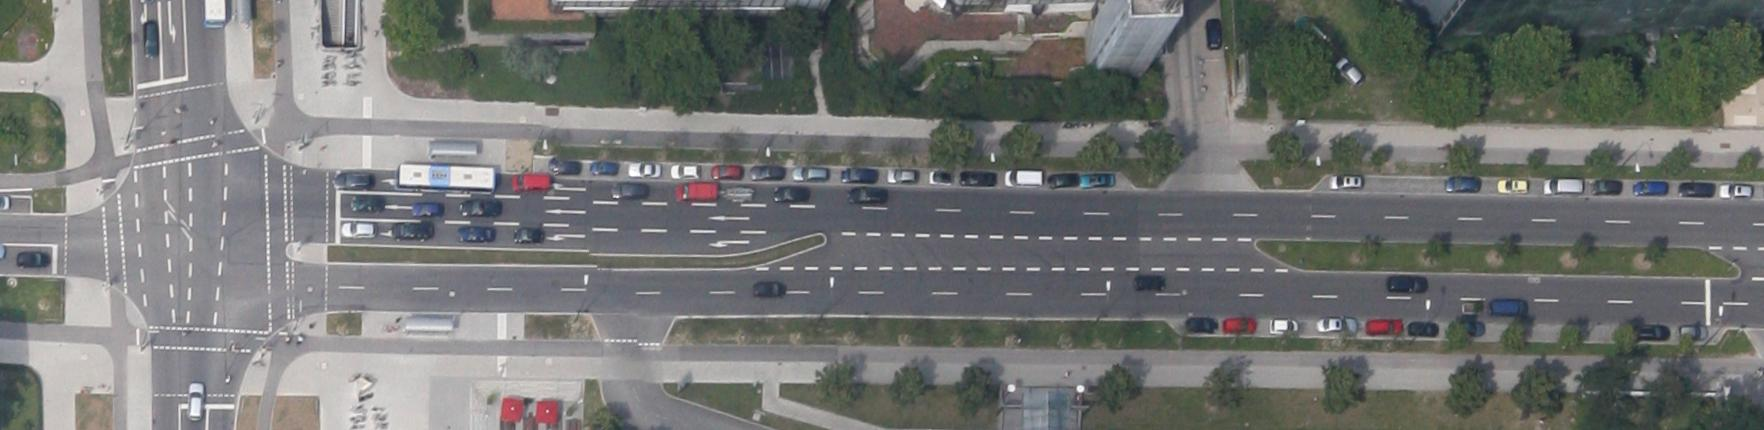car: (1333, 55, 1366, 89), (676, 182, 716, 202), (333, 170, 370, 190), (460, 200, 501, 218), (1488, 298, 1528, 316), (394, 222, 432, 240), (512, 174, 550, 192), (1386, 276, 1428, 292), (1005, 169, 1042, 187), (1543, 177, 1582, 194), (848, 186, 886, 203), (1316, 318, 1356, 334), (16, 251, 50, 269), (350, 194, 384, 212), (144, 21, 160, 59), (187, 382, 203, 420), (774, 185, 809, 202), (457, 226, 494, 242), (612, 182, 648, 198), (1366, 318, 1402, 334), (1444, 176, 1480, 192), (341, 222, 376, 238), (1678, 182, 1714, 197), (793, 166, 826, 182), (1205, 18, 1222, 49), (1632, 181, 1667, 196), (842, 168, 877, 183), (1186, 316, 1218, 332), (1224, 316, 1256, 332), (1330, 174, 1362, 190), (960, 171, 994, 186), (750, 165, 784, 180), (1407, 320, 1438, 336), (1638, 324, 1669, 340), (1590, 179, 1621, 195), (629, 162, 660, 178), (753, 282, 785, 297), (670, 163, 700, 179), (548, 159, 580, 174), (1134, 275, 1164, 291), (1718, 184, 1752, 198), (1080, 174, 1114, 188), (1269, 318, 1298, 334), (514, 228, 544, 243), (712, 165, 742, 180), (726, 185, 752, 202), (1049, 173, 1078, 188), (412, 202, 442, 216), (1678, 325, 1706, 340), (1498, 178, 1526, 193), (887, 168, 916, 182), (590, 160, 616, 175), (929, 169, 951, 184), (1462, 300, 1482, 314)
